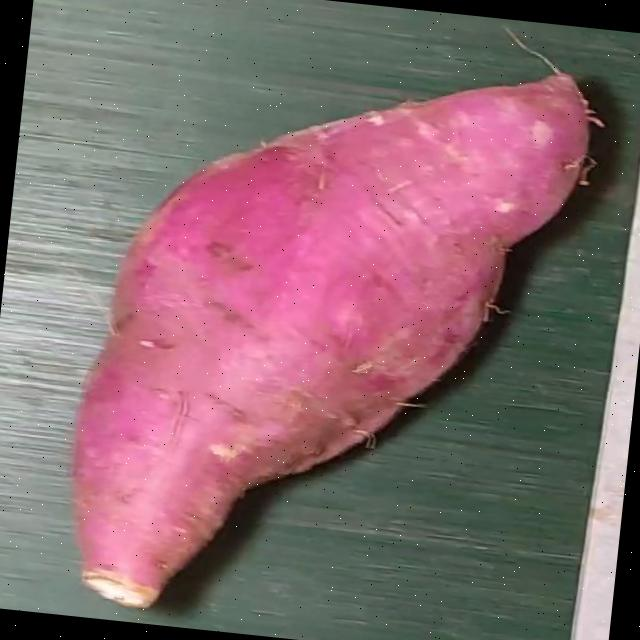Sweet Potato: (67, 68, 597, 609)
